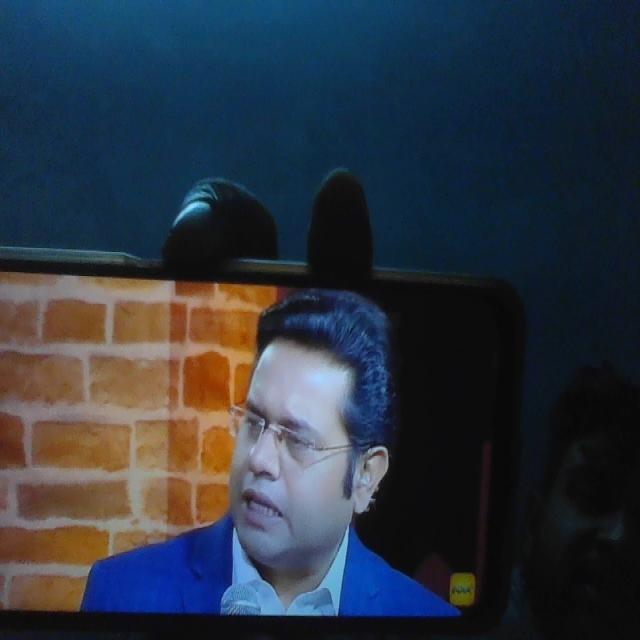fake: (225, 294, 371, 570)
